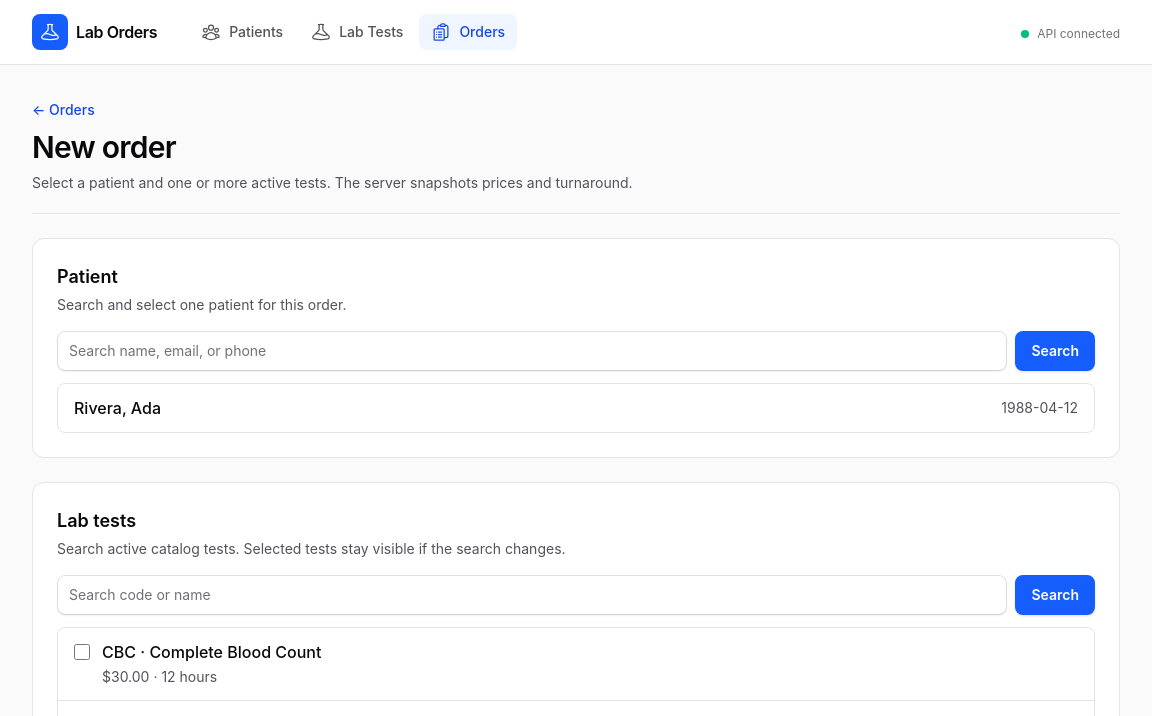
Scenario: explains empty patient and test search results
This screenshot has width=1152, height=716.
expect the button "Rivera, Ada 1988-04-12" is shown: met, box [58,384,1094,432]
Type "missing" into the field named "Search patients".
click(532, 351); type("missing")  # box [57,331,1008,371]
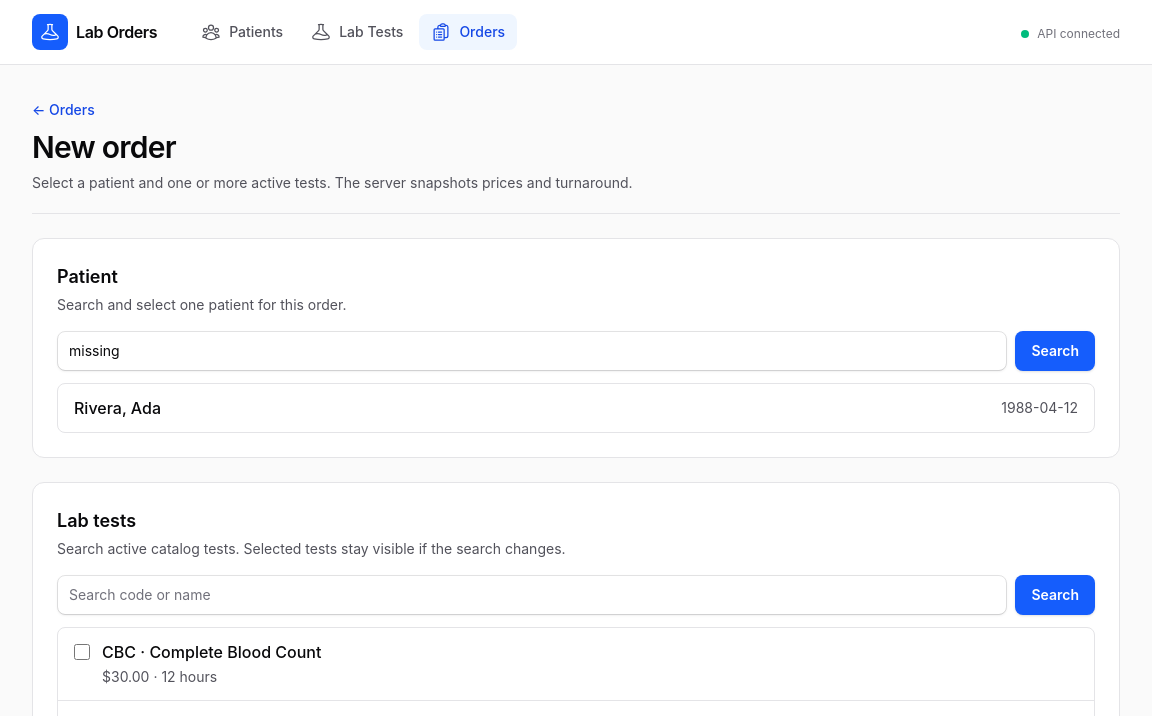
Submit the form named "Search patients", box [57,331,1095,371]
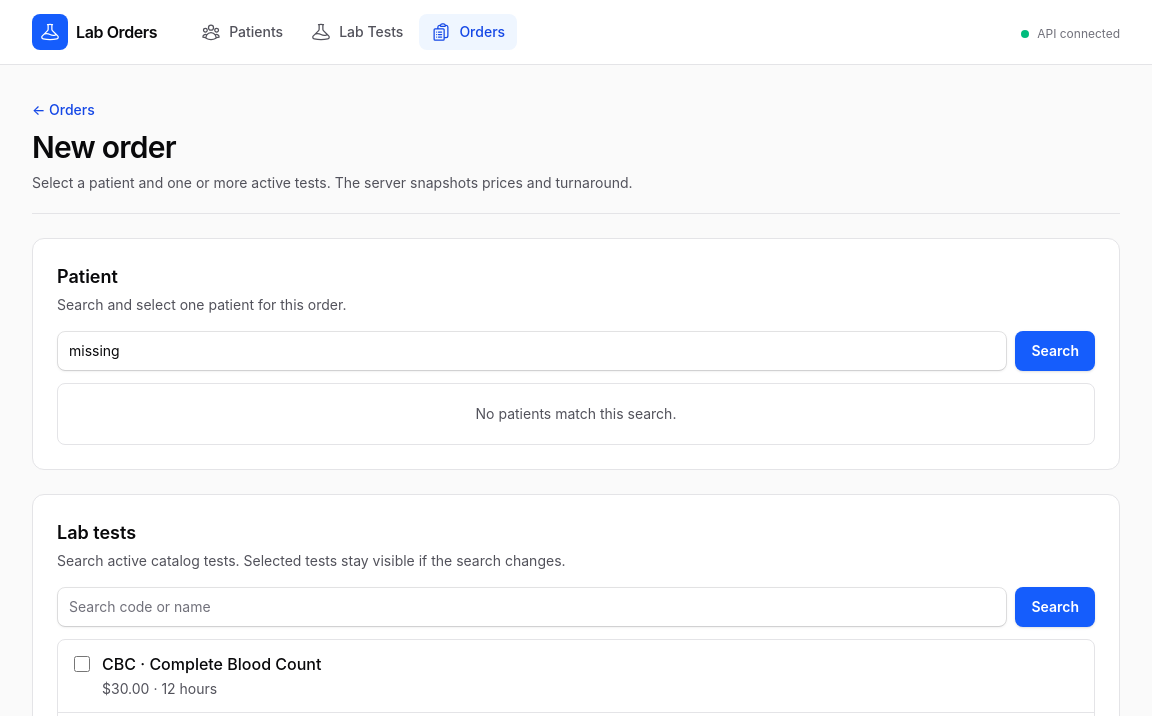
expect the text "No patients match this search." is shown: met, box [476,405,676,422]
Type "missing" into the field named "Search lab tests".
click(532, 607); type("missing")  # box [57,587,1008,627]
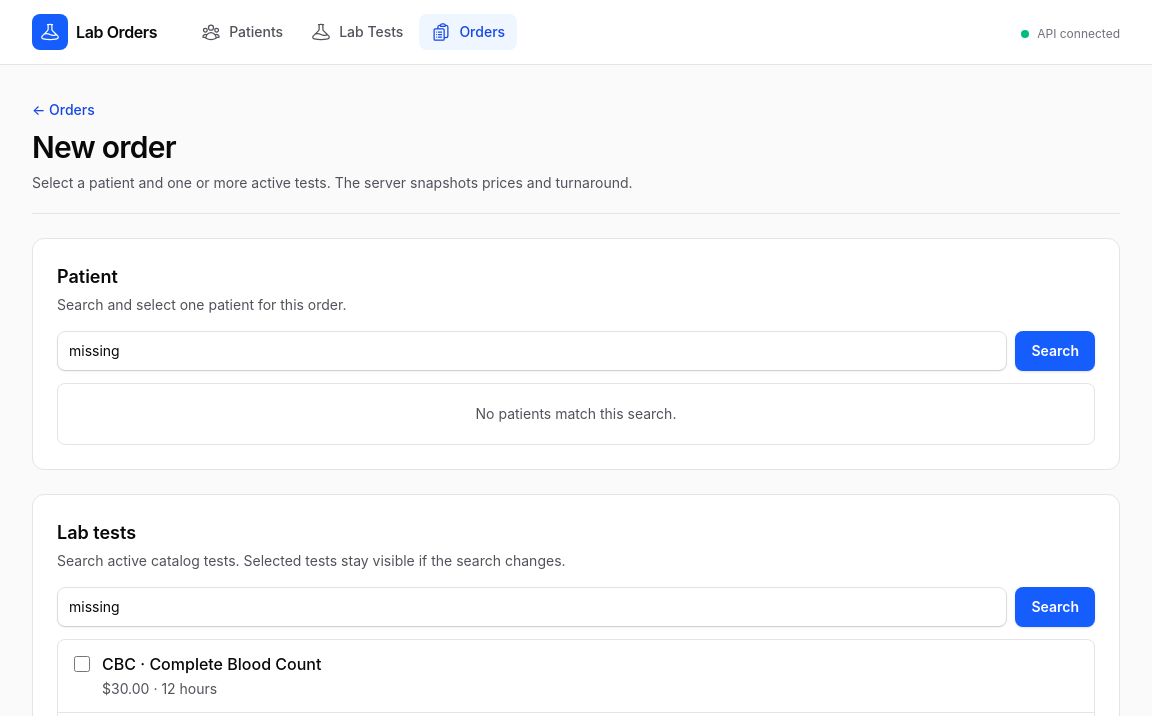
Submit the form named "Search lab tests", box [57,587,1095,627]
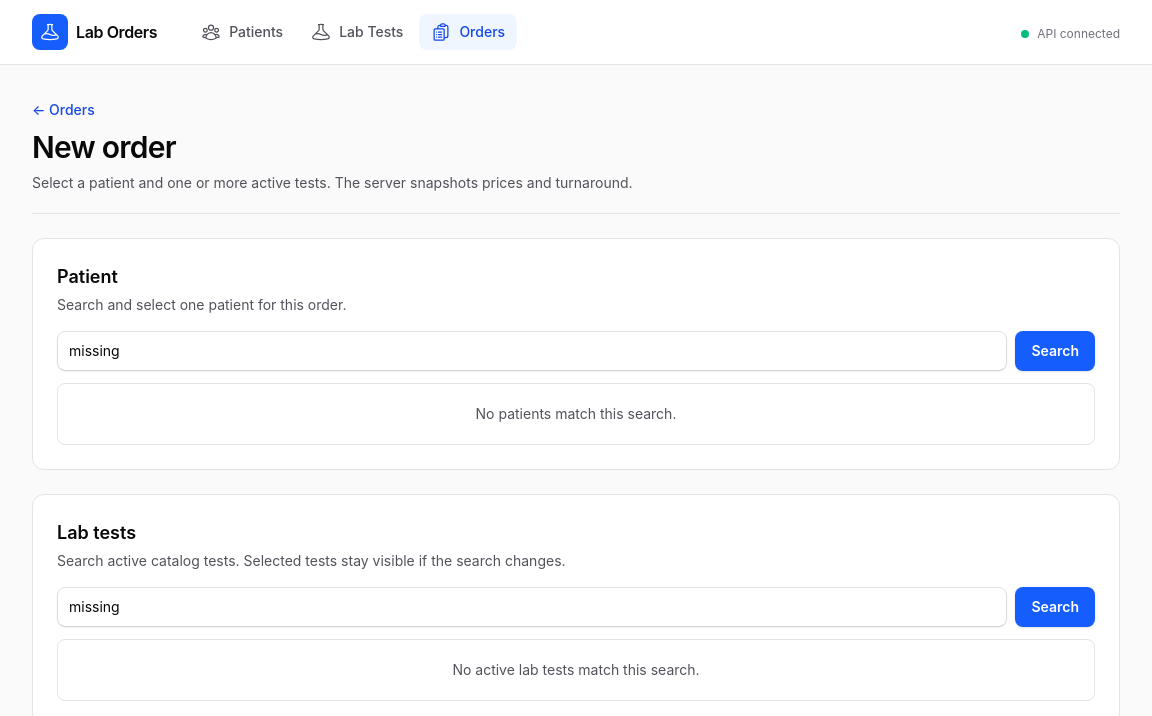
expect the text "No active lab tests match this search." is shown: met, box [452,661,700,678]
